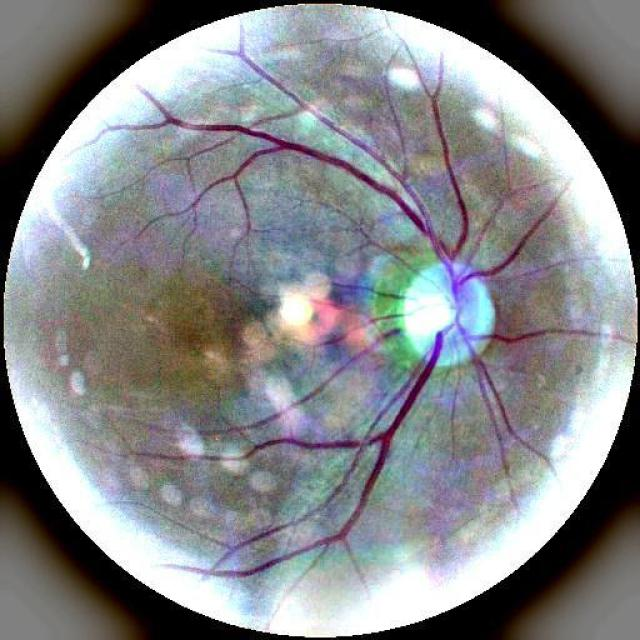Macula: (169, 299, 249, 378)
Nerves: (99, 26, 602, 576), (301, 335, 362, 400), (352, 328, 399, 358), (372, 290, 406, 299)
Optic Disk: (404, 255, 495, 364)
